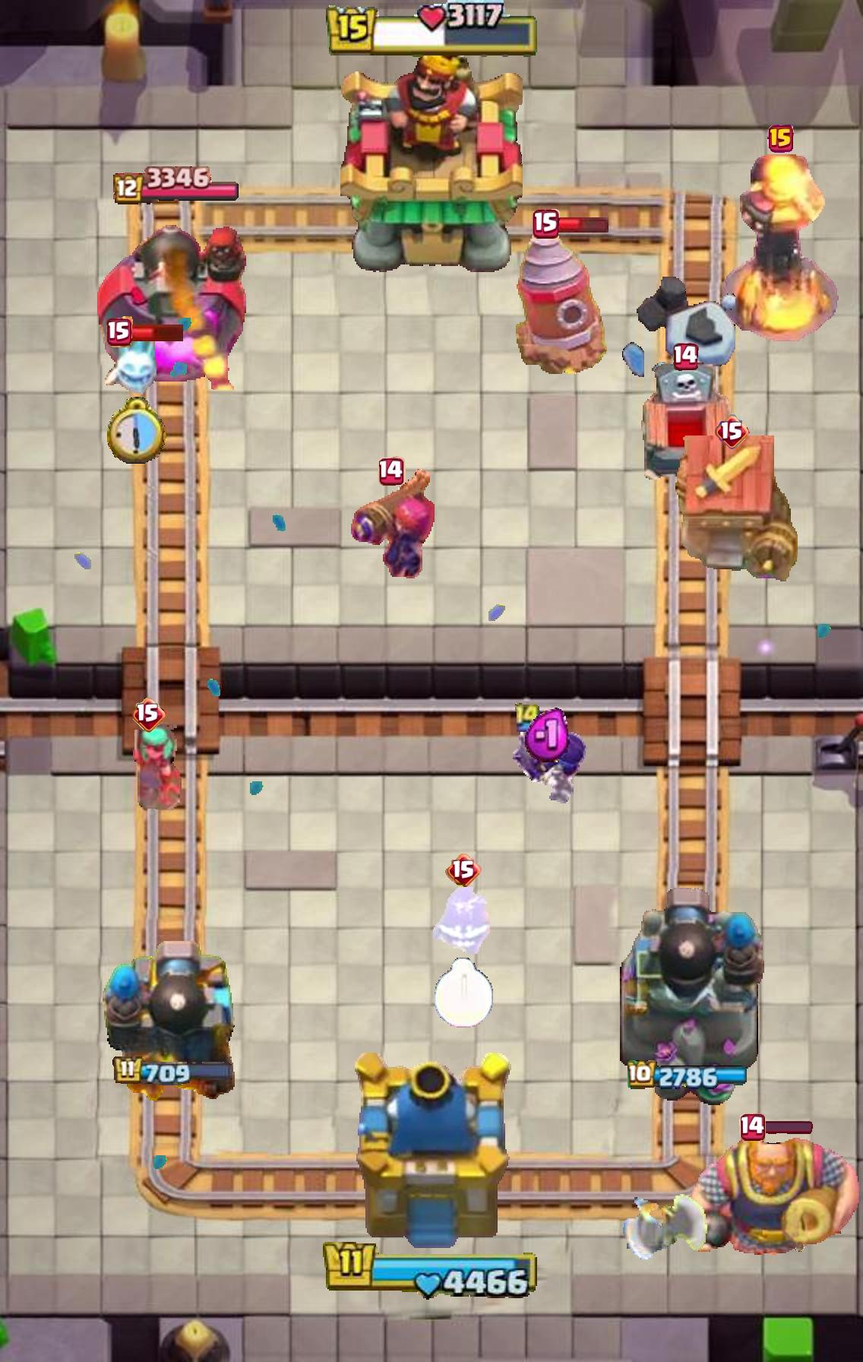bar: (129, 322, 185, 342), (556, 215, 609, 233), (762, 1121, 812, 1134)
bar-level: (715, 414, 750, 449), (445, 854, 482, 887), (132, 698, 166, 733), (378, 456, 406, 486), (106, 316, 133, 347), (533, 209, 560, 239), (768, 124, 794, 152), (673, 343, 699, 371), (739, 1113, 765, 1141)
